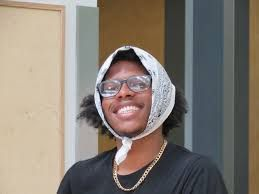no-mask: (86, 49, 174, 137)
